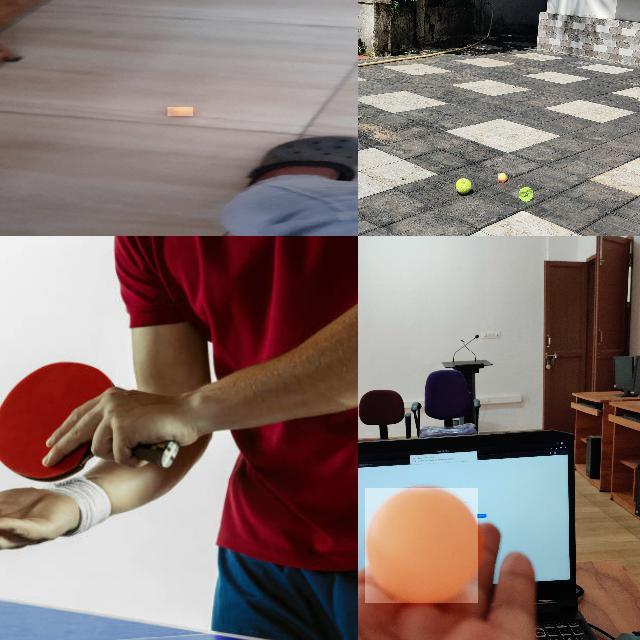ping-pong-ball: (365, 488, 479, 604), (168, 107, 194, 116), (498, 172, 506, 182)
